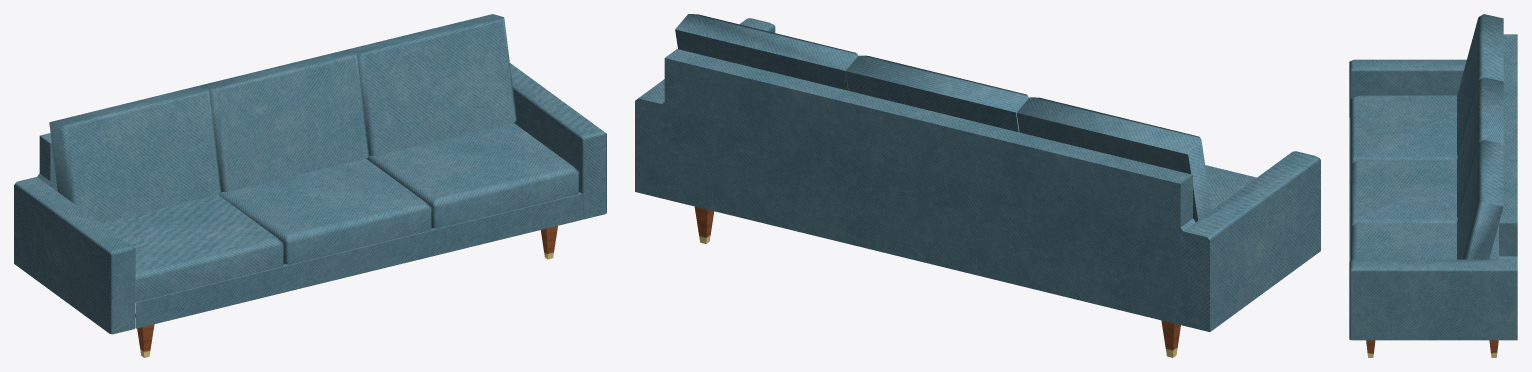
File: sofa_midcentury_modern.glb
3 views of the same model, side by side, from view 1: azimuth 30°, elevation 25°; view 2: azimuth 150°, elevation 25°; view 3: azimuth 270°, elevation 25° (orthographic). The views are drawn at different scales.
Parts seen in each view (by area): view 1: couch1; view 2: couch1; view 3: couch1.
Boxes of the visible parts, box(x1,y1,x2,y2) form: couch1: box(14, 14, 606, 357); couch1: box(635, 14, 1320, 357); couch1: box(1349, 14, 1517, 357).
Size of the model in its own units: 3.31 by 1.2 by 1.12.
Materials: 1 (1 with a texture image).
